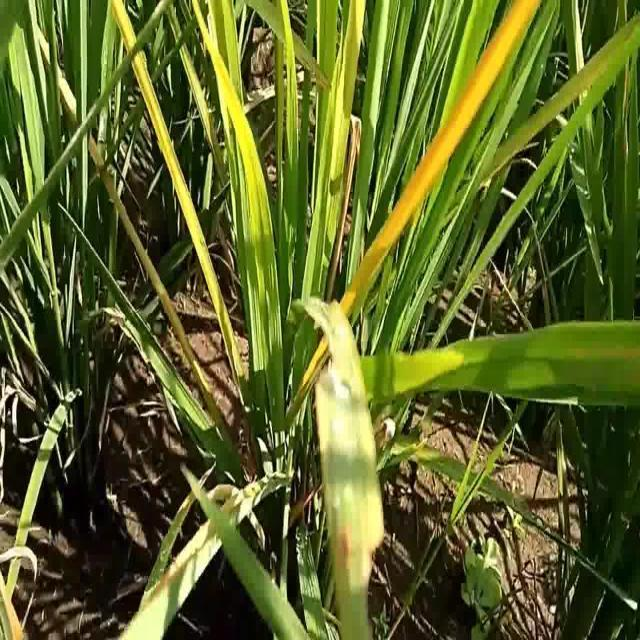Rice Tungro: (345, 3, 542, 332), (107, 4, 232, 368), (196, 1, 277, 254)
